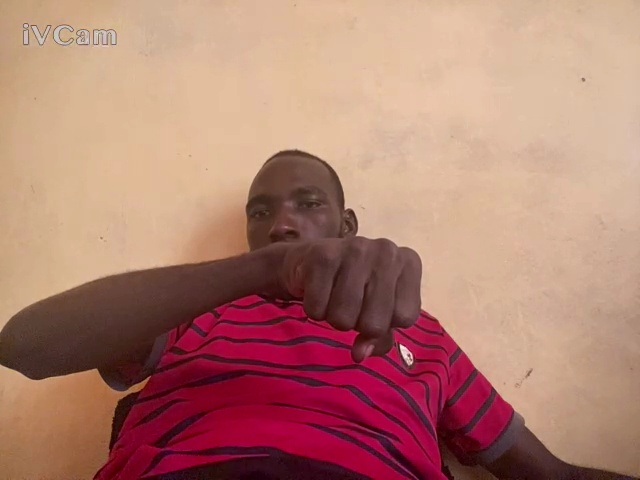Oui: (270, 224, 429, 362)
